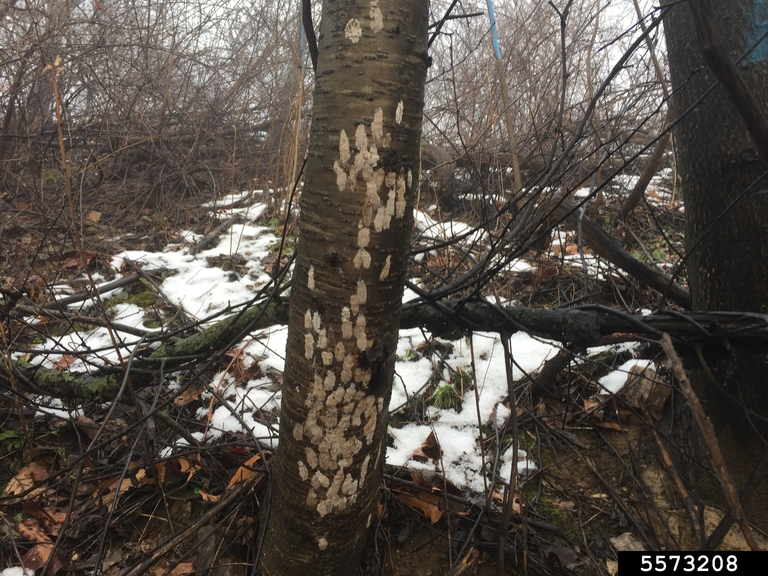egg masses: (362, 168, 384, 227), (354, 122, 379, 166), (330, 430, 354, 464), (309, 368, 320, 440), (366, 0, 381, 34), (355, 315, 368, 350), (338, 128, 351, 162), (343, 17, 361, 41), (333, 159, 347, 189), (340, 305, 351, 337), (386, 169, 392, 227), (397, 170, 404, 218), (353, 247, 371, 265), (354, 368, 371, 387), (372, 105, 381, 139), (366, 402, 373, 445), (342, 473, 357, 493), (301, 332, 313, 357), (304, 446, 318, 466), (355, 392, 364, 423), (355, 227, 371, 244), (341, 354, 351, 381), (350, 165, 361, 189), (319, 443, 329, 469), (310, 471, 325, 488), (323, 369, 335, 390), (306, 262, 315, 290), (330, 464, 338, 494), (357, 278, 366, 304), (294, 461, 307, 478), (334, 340, 344, 362), (360, 453, 366, 487), (324, 407, 334, 427), (344, 403, 352, 428), (292, 421, 303, 439), (329, 386, 340, 404), (317, 500, 330, 515), (395, 98, 402, 124), (349, 295, 359, 313), (344, 383, 354, 400), (384, 254, 390, 282), (317, 326, 326, 344), (332, 498, 344, 511), (313, 310, 320, 331), (303, 309, 311, 327), (320, 351, 333, 362), (306, 487, 314, 503), (318, 536, 327, 550), (406, 168, 412, 188), (383, 131, 389, 148), (376, 396, 381, 410), (365, 514, 370, 526)
